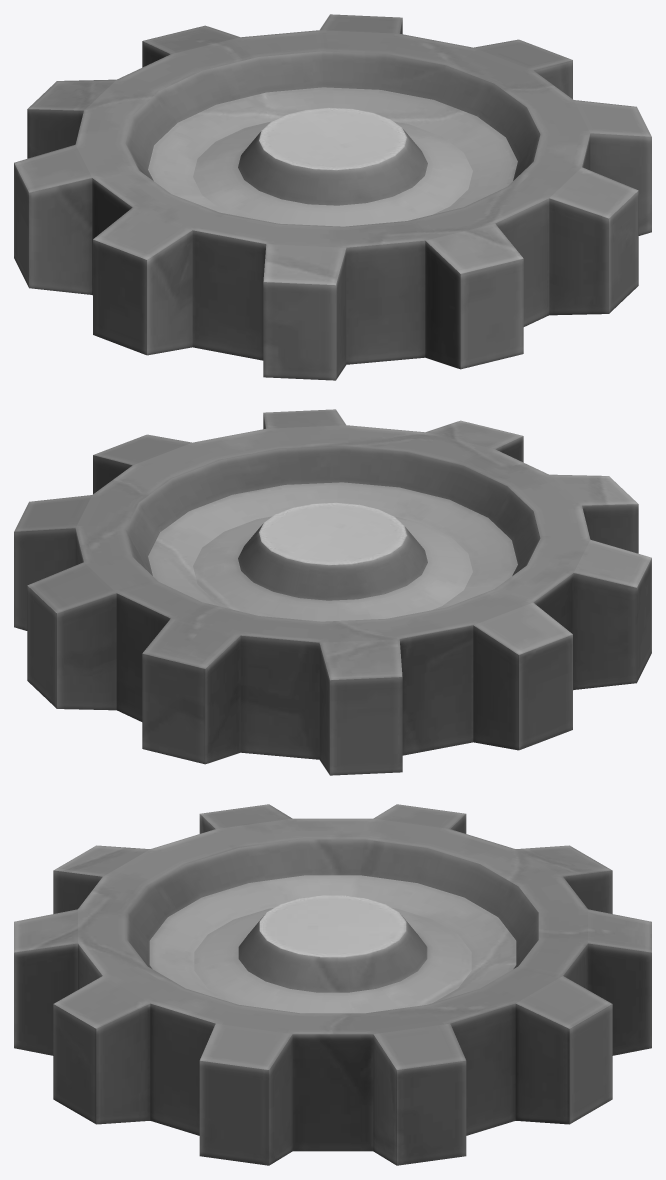
File: obj_gear04_alt.gltf
3 views of the same model, one above another, from view 1: azimuth 30°, elevation 25°; view 2: azimuth 150°, elevation 25°; view 3: azimuth 270°, elevation 25° (orthographic).
Visible parts, largest first — view 1: obj_gear04_alt; view 2: obj_gear04_alt; view 3: obj_gear04_alt.
Boxes of the visible parts, <box> form: obj_gear04_alt: <box>14,14,651,380</box>; obj_gear04_alt: <box>14,409,651,775</box>; obj_gear04_alt: <box>14,804,651,1165</box>.
Size of what is drawn, in the model's own units: 0.3402 by 0.0699 by 0.3449.
1 material, 1 textured.
